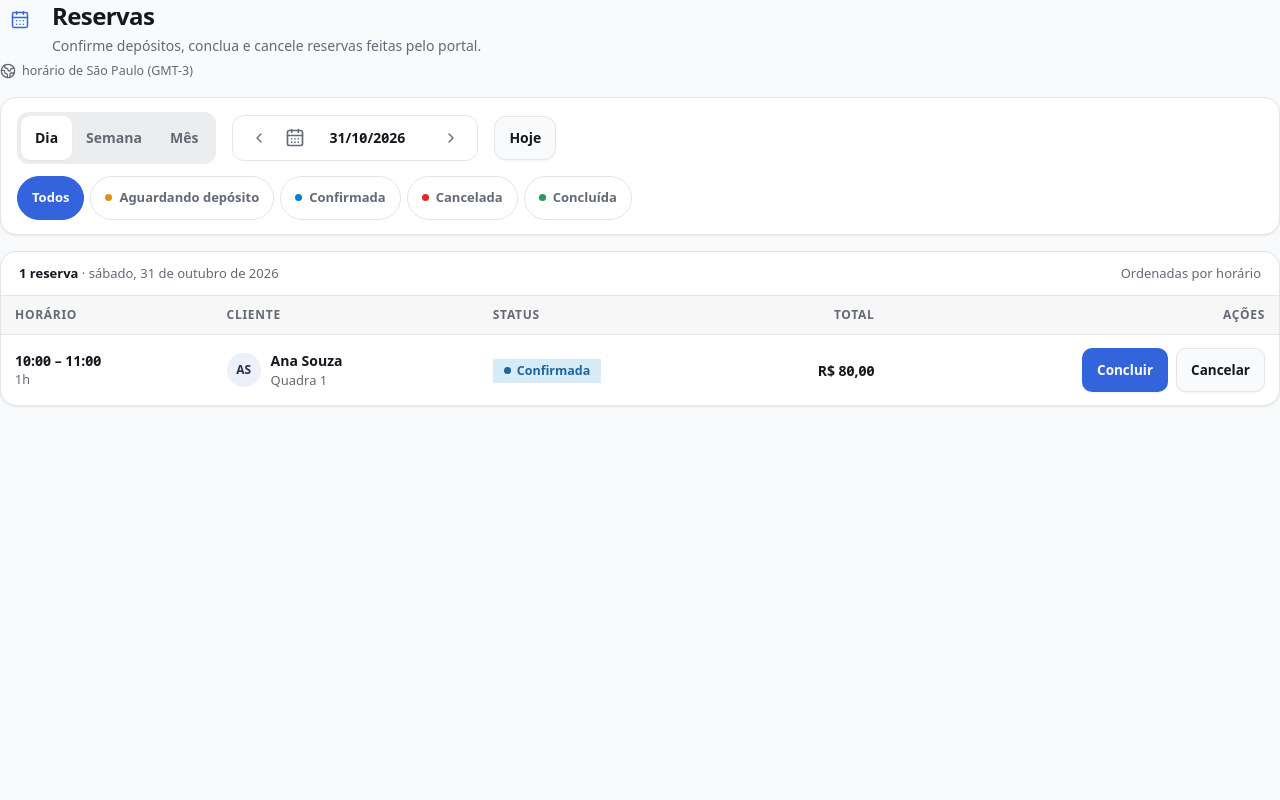
ReservationsPage Cancel confirmation › dismisses the dialog without cancelling when Manter reserva is clicked
Expected: the text "Ana Souza" is shown, [271,351,342,370]
Click the button "Cancelar".
click(1220, 370)  # box [1176,348,1265,392]
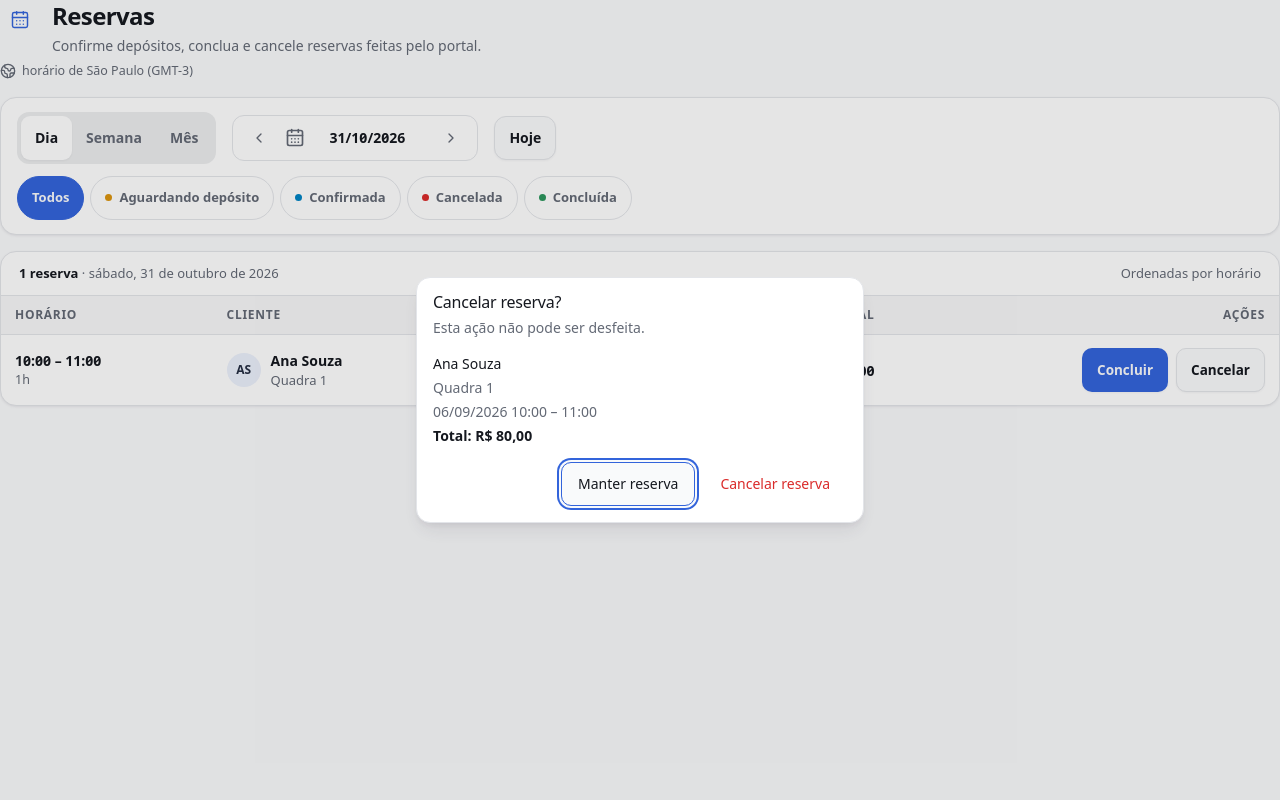
Expected: the dialog is shown, [416,277,864,523]
Click the button "Manter reserva".
click(628, 484)  # box [561,462,695,506]
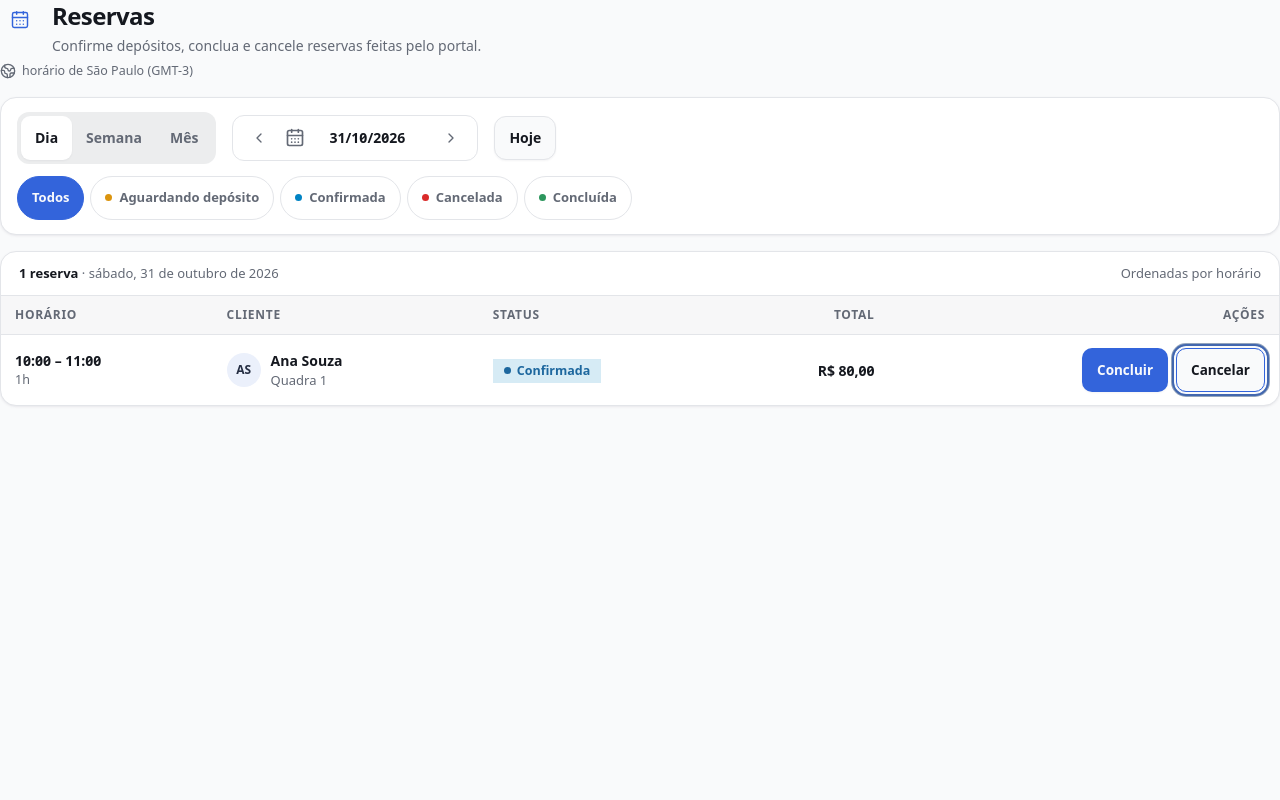
Expected: the dialog is gone
